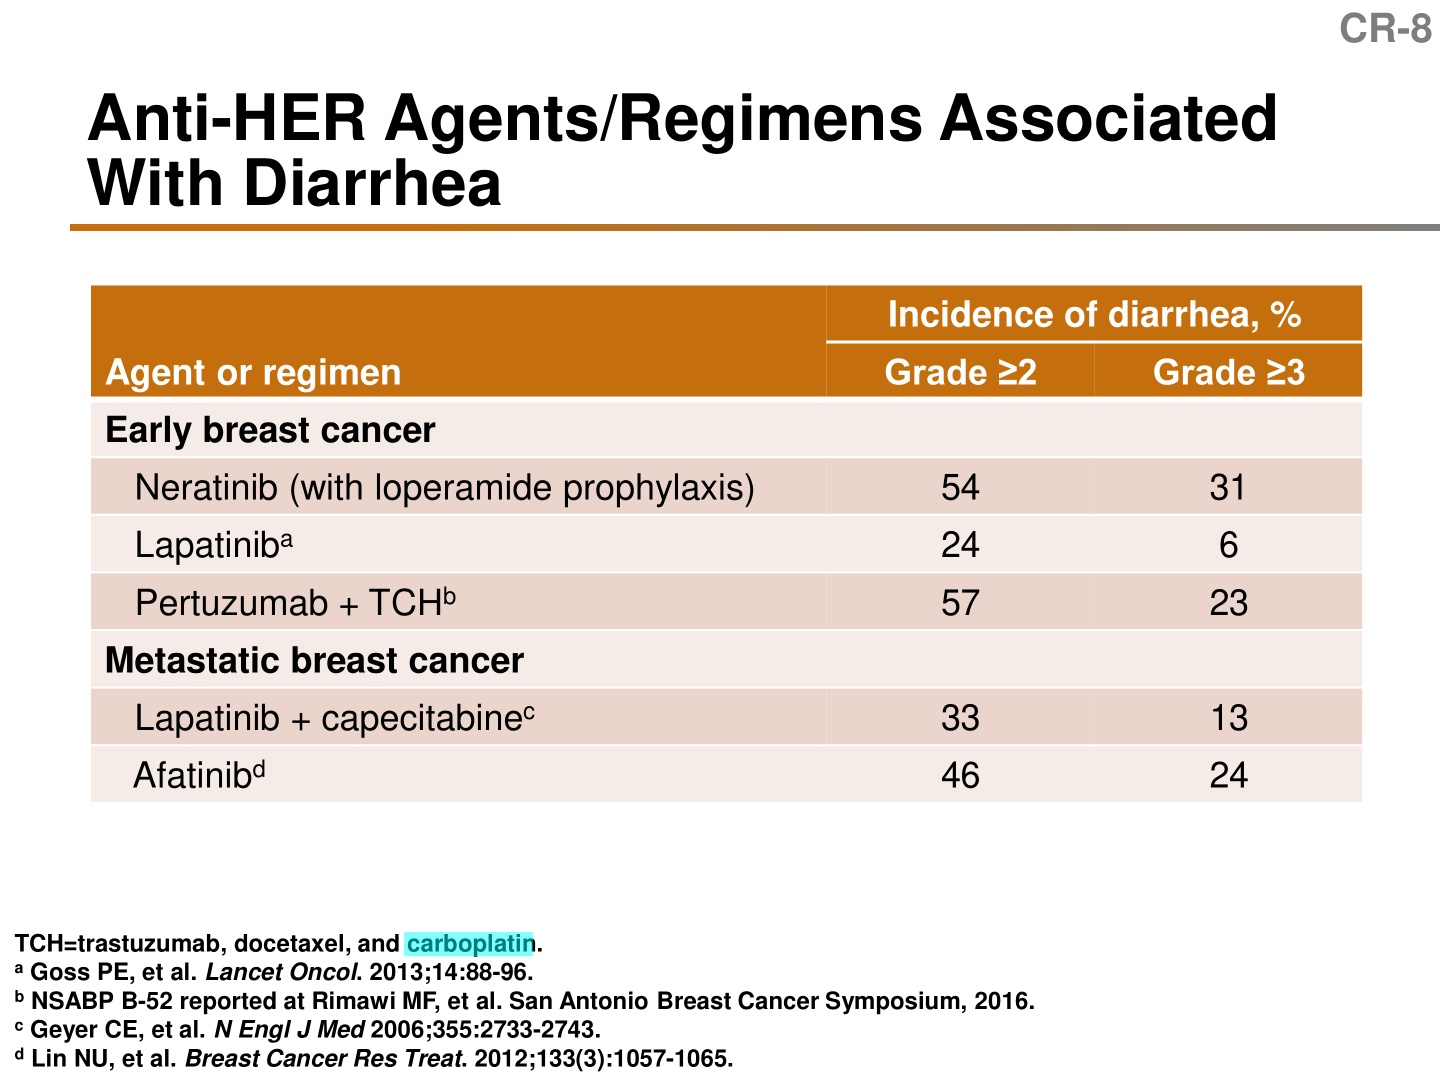merged_cells: (88, 284, 1362, 803)
